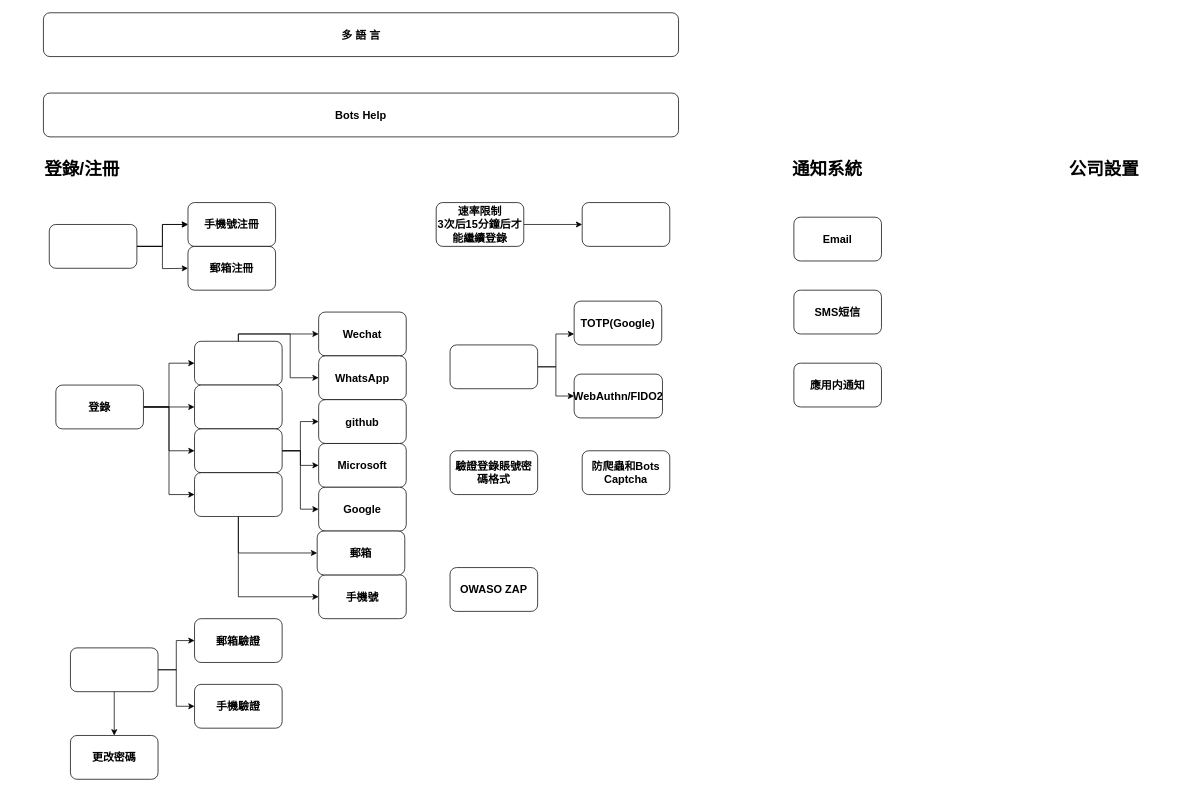
This 1186x792 diagram has some shape labels left out. The shapes that lost their labels are listed below. From the top down, each one's centre as x and y in pixels, then its label:
At [625,224]: "防止暴力破解".
At [93,246]: "注冊".
At [238,363]: "掃碼登錄".
At [493,366]: "MFA(雙因素認證) 需確認是否開啓".
At [238,406]: "賬號密碼".
At [238,450]: "單點登錄".
At [238,494]: "驗證碼".
At [114,669]: "忘記密碼".
